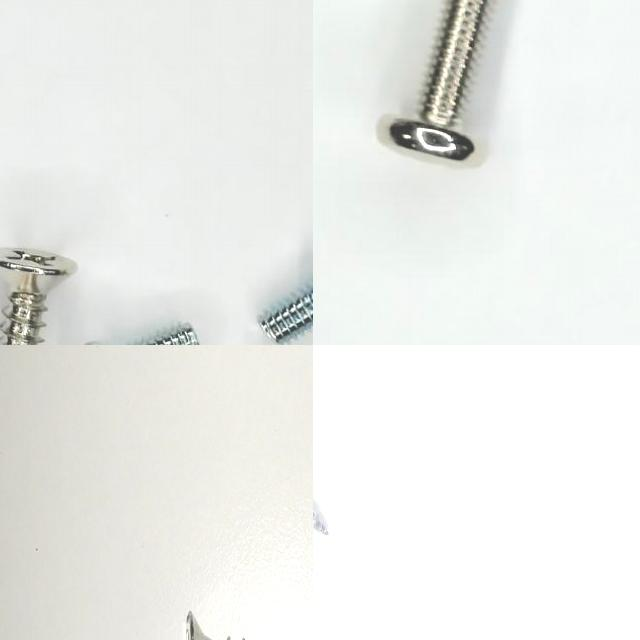Screw: (389, 0, 486, 160), (0, 248, 77, 345), (259, 287, 313, 344)
